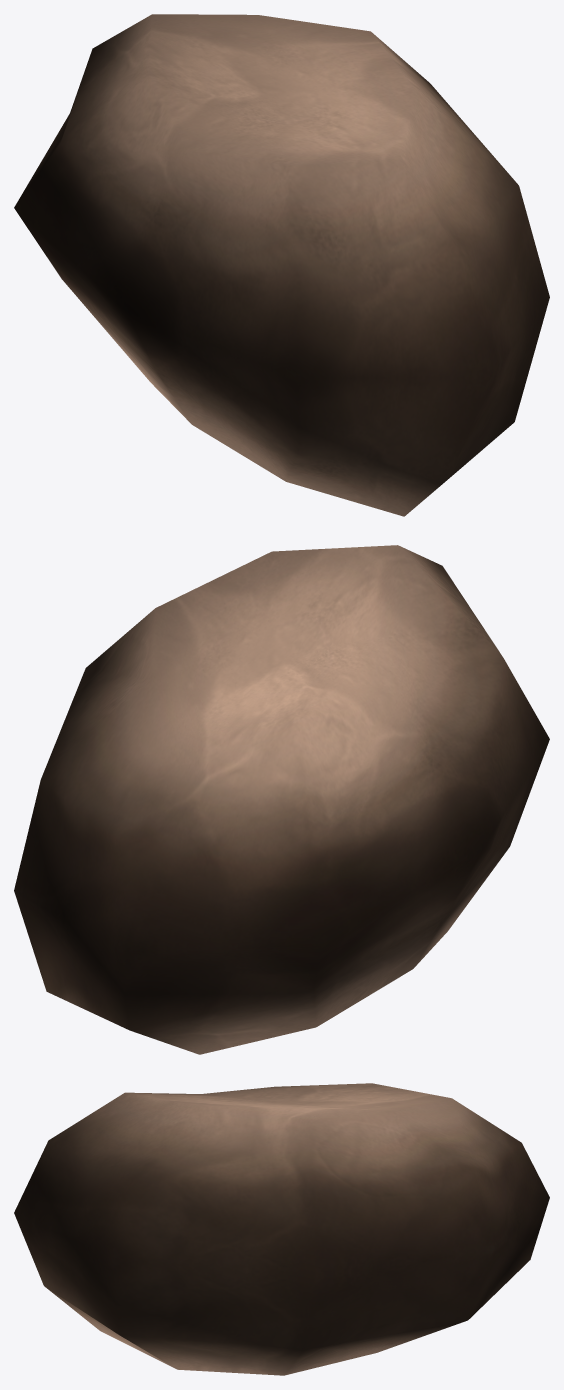
Rendered from rock_2.fbx.
3 views of the same model, one above another, from view 1: azimuth 30°, elevation 25°; view 2: azimuth 150°, elevation 25°; view 3: azimuth 270°, elevation 25° (orthographic). The views are drawn at different scales.
Parts seen in each view (by area): view 1: polySurface52; view 2: polySurface52; view 3: polySurface52.
Boxes of the visible parts, box(x1,y1,x2,y2) form: polySurface52: box(14, 14, 549, 516); polySurface52: box(14, 545, 549, 1054); polySurface52: box(14, 1083, 549, 1375).
Bounding box in the file's own units: 31.02 × 31.59 × 56.72.
